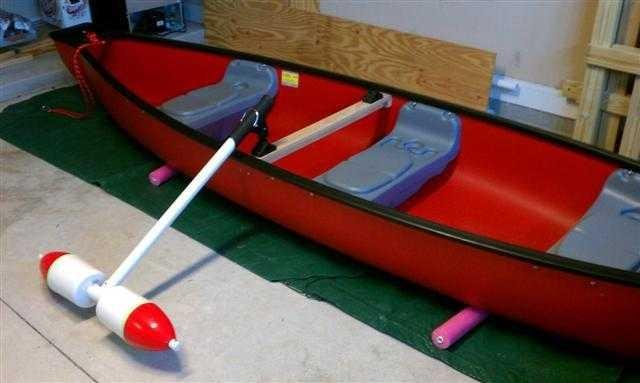kayak: (51, 31, 636, 361)
